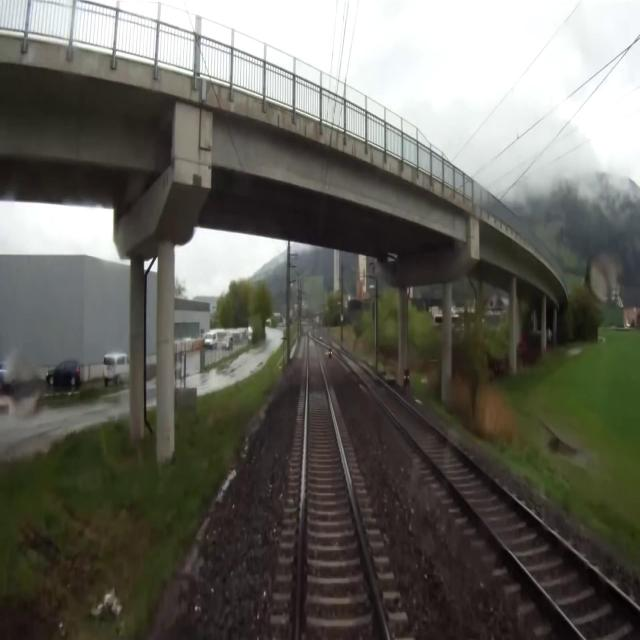rail-track: (344, 356, 640, 639), (299, 340, 385, 639)
